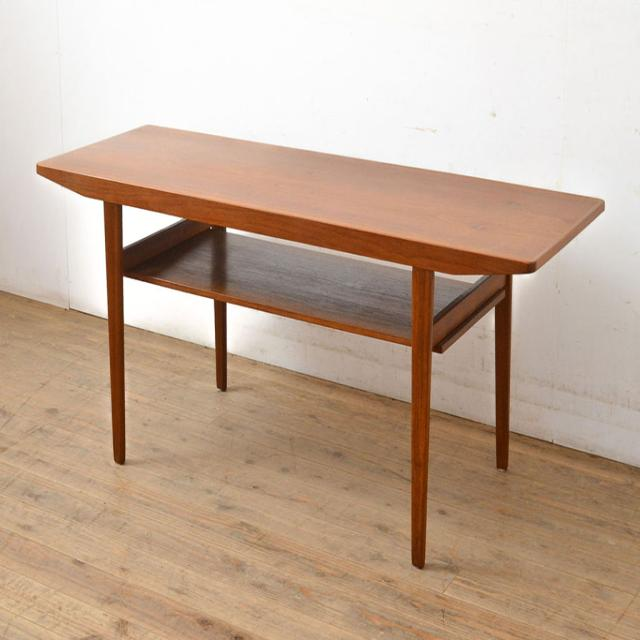vintage desk: (34, 121, 607, 573)
